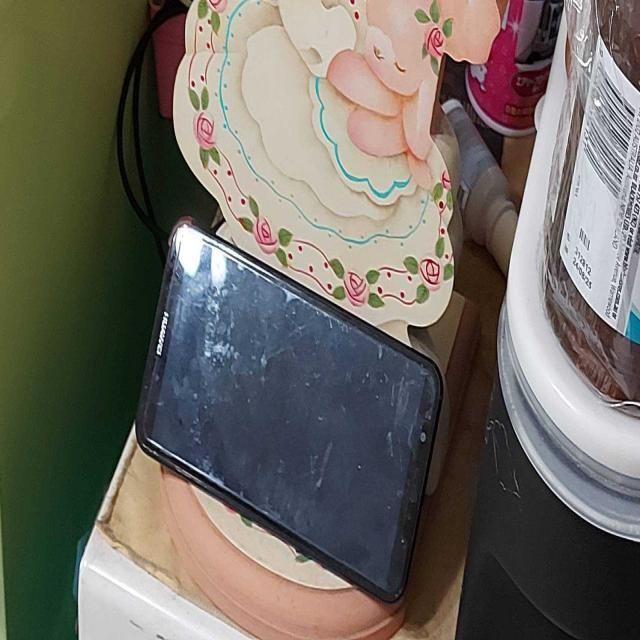phone: (119, 205, 459, 640)
